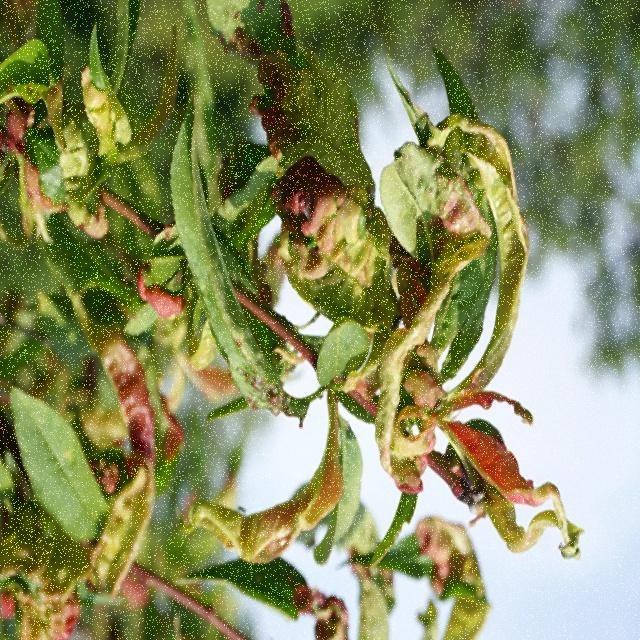leaf_curl: (61, 302, 187, 611), (428, 336, 594, 536), (201, 380, 366, 580), (227, 151, 392, 351)
